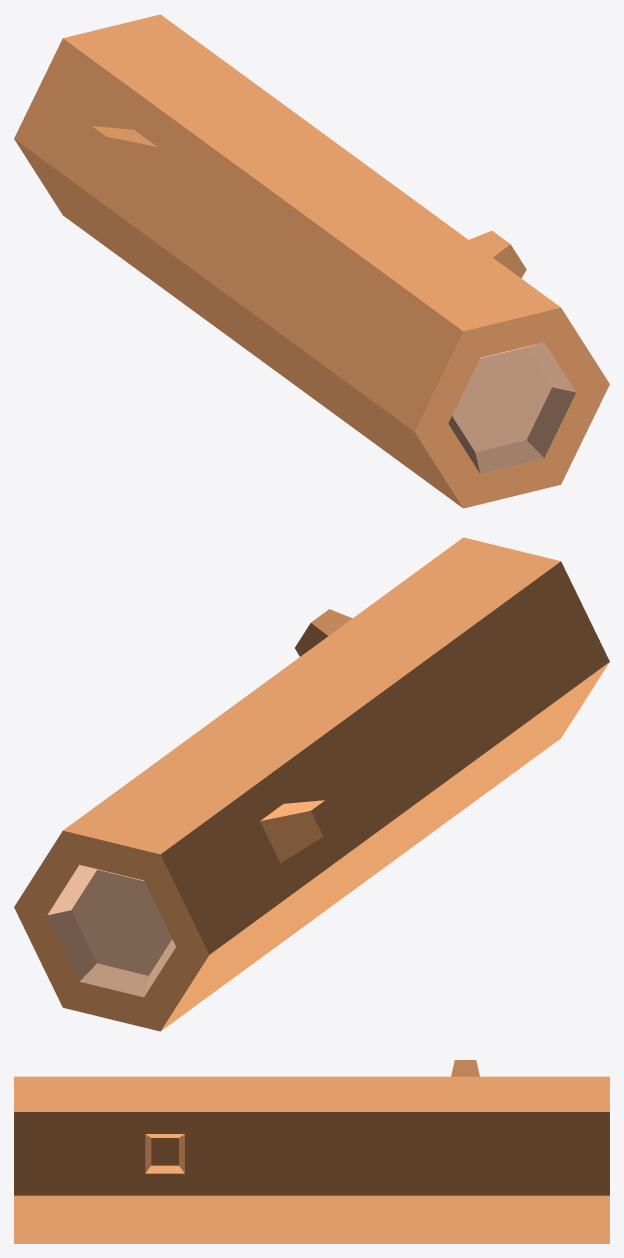
Rendered from log_small.obj.
The picture shows the model from 3 angles, top to bottom: view 1: azimuth 30°, elevation 25°; view 2: azimuth 150°, elevation 25°; view 3: azimuth 270°, elevation 25°; orthographic projection. The views are drawn at different scales.
Visible parts, largest first — view 1: log_small; view 2: log_small; view 3: log_small.
Part boxes in pixels (x1,y1,x2,y2): log_small: (14, 14, 609, 508); log_small: (14, 537, 609, 1031); log_small: (14, 1060, 609, 1243).
Size of the model in its own units: 2.34 by 1.73 by 7.1.
